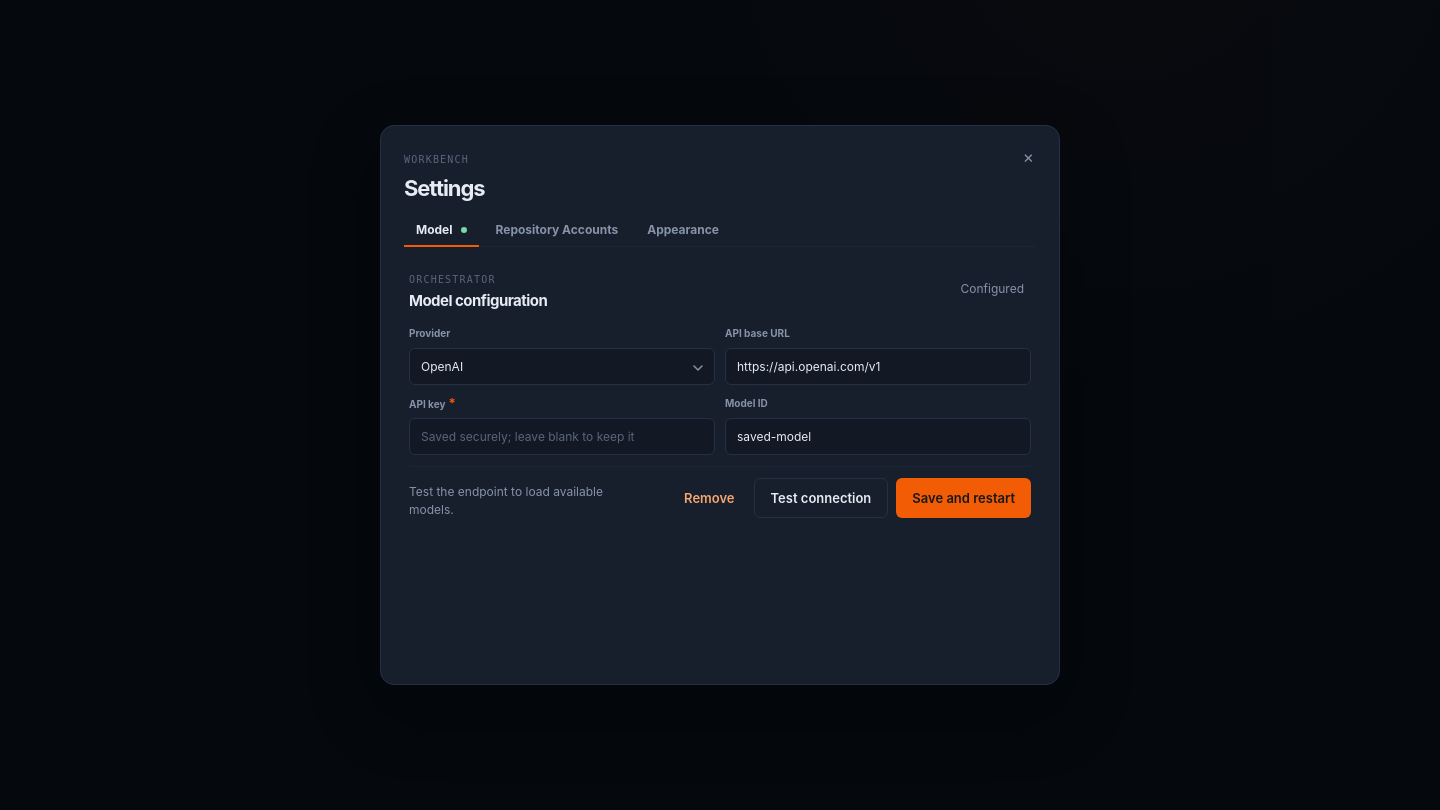
Scenario: model discovery settings › invalidates the model list after editing API base URL
This screenshot has width=1440, height=810.
Expected: the field showing "saved-model" is shown, 725,418 -> 1031,455
Click the button "Test connection": (821, 498) 754,478 -> 888,518
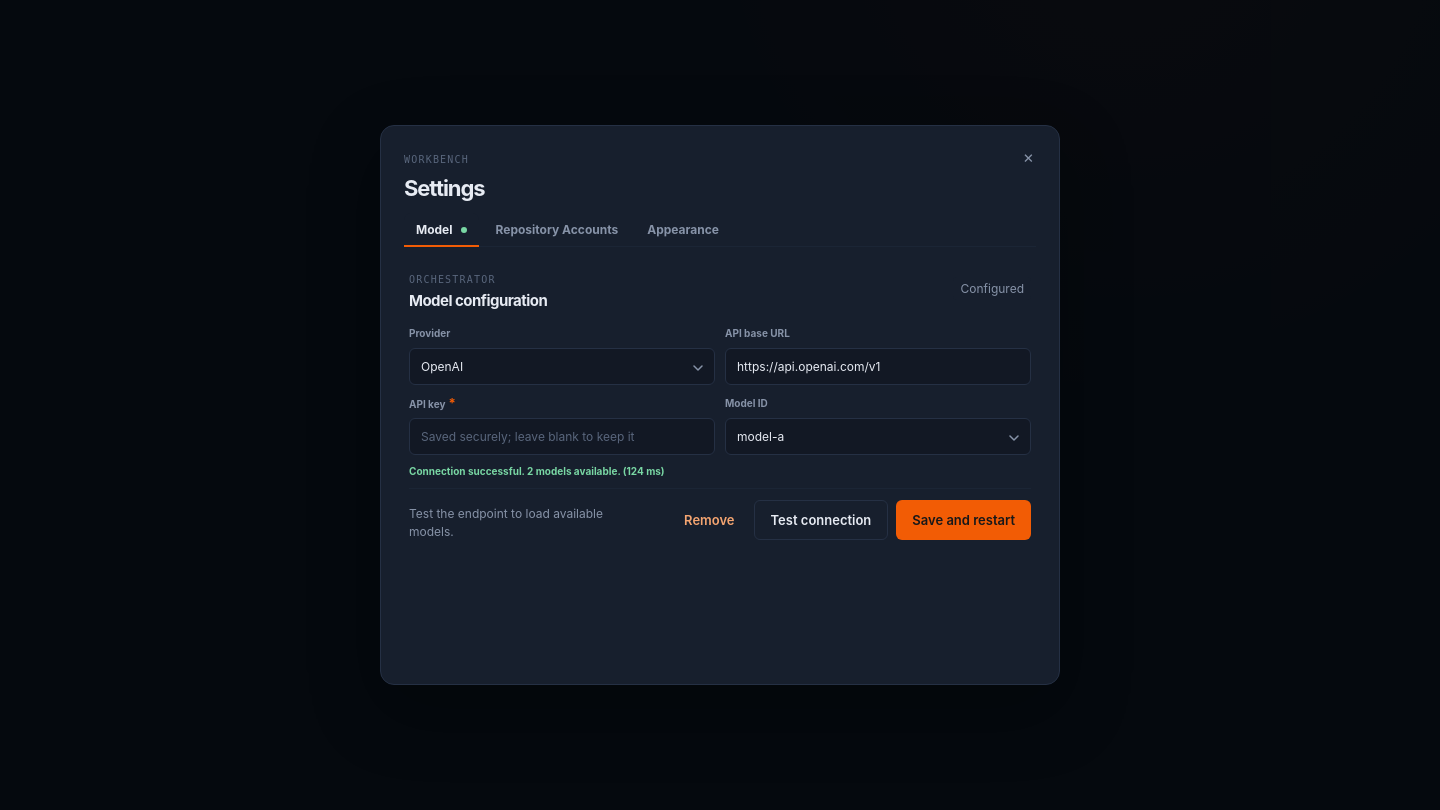
Now the dropdown named "Model ID" is shown, box 725,418 -> 1031,455
In the field labelled "API base URL": (878, 366) 725,348 -> 1031,385, type "changed"
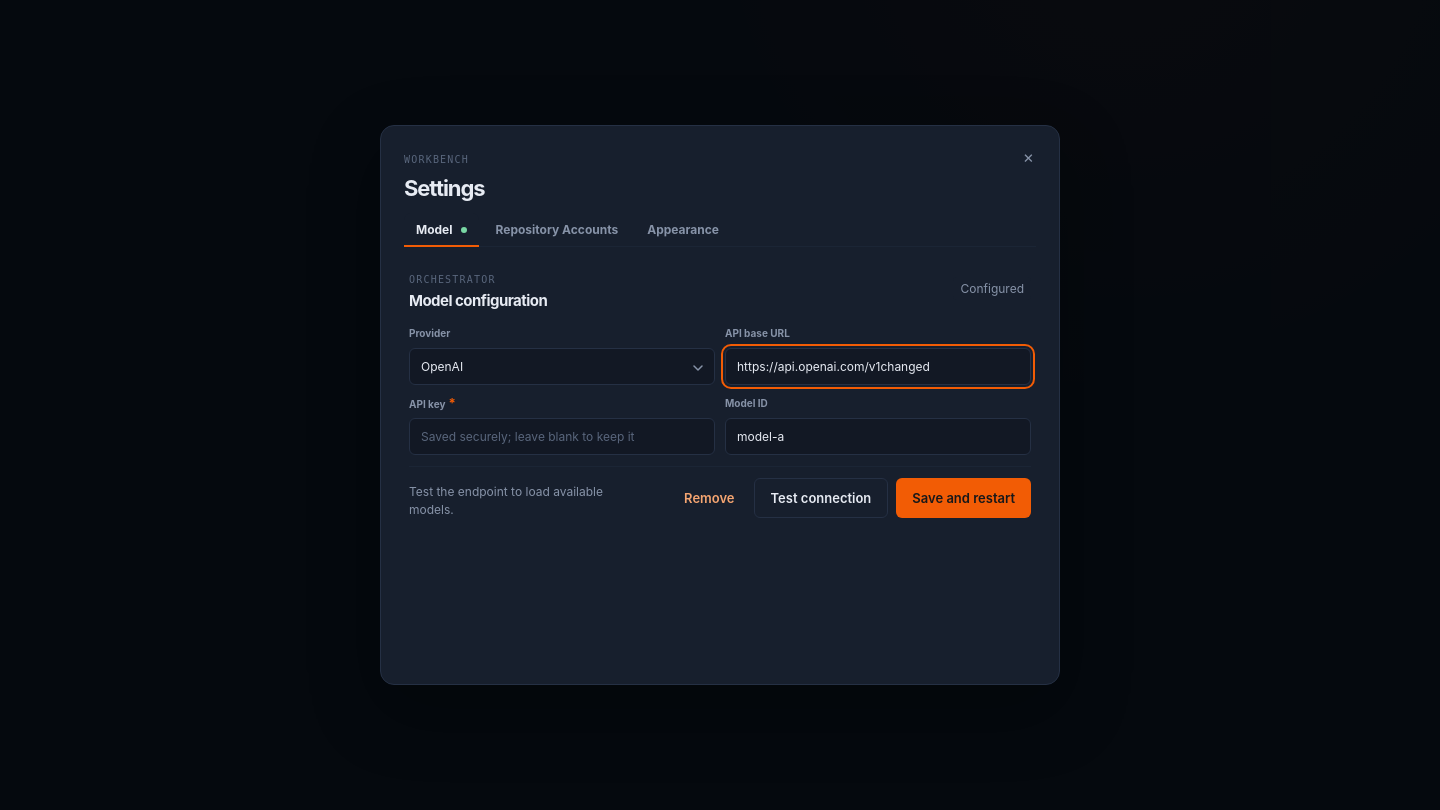
Now the text "Connection successful" is gone
